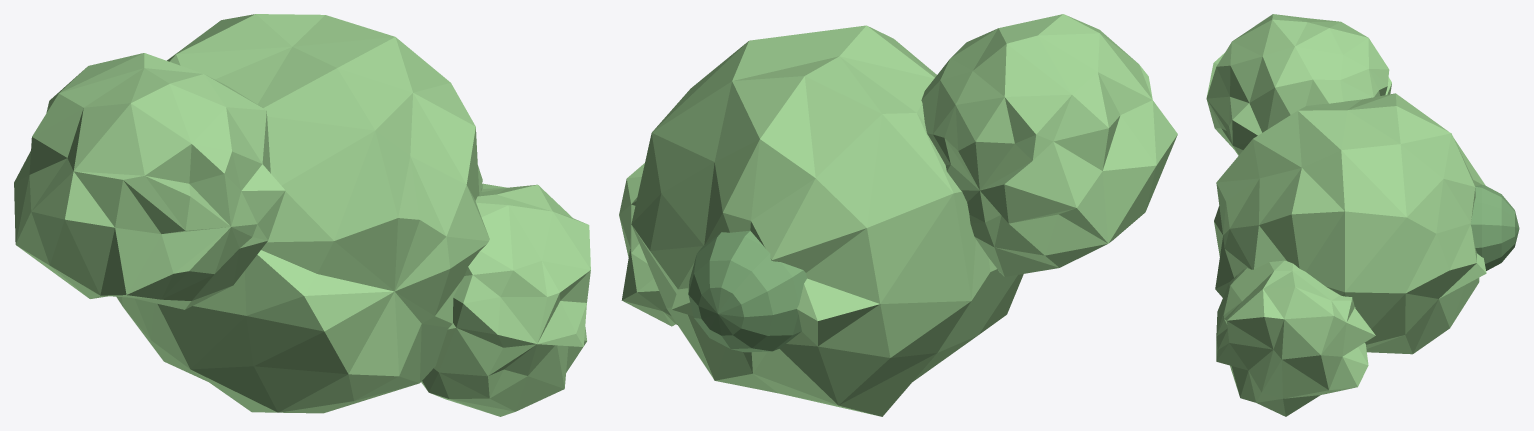
File: SlimeGoo.fbx
3 views of the same model, side by side, from view 1: azimuth 30°, elevation 25°; view 2: azimuth 150°, elevation 25°; view 3: azimuth 270°, elevation 25° (orthographic). The views are drawn at different scales.
Visible parts, largest first — view 1: fam_slime; view 2: fam_slime, fam_slime_dark; view 3: fam_slime, fam_slime_dark.
Part boxes in pixels (x1=…): fam_slime: x1=14, y1=14, x2=590, y2=416; fam_slime: x1=619, y1=14, x2=1177, y2=416; fam_slime_dark: x1=688, y1=230, x2=806, y2=352; fam_slime: x1=1206, y1=14, x2=1486, y2=416; fam_slime_dark: x1=1470, y1=185, x2=1519, y2=270.
Bounding box in the file's own units: 1.53 × 1.1 × 1.12.
